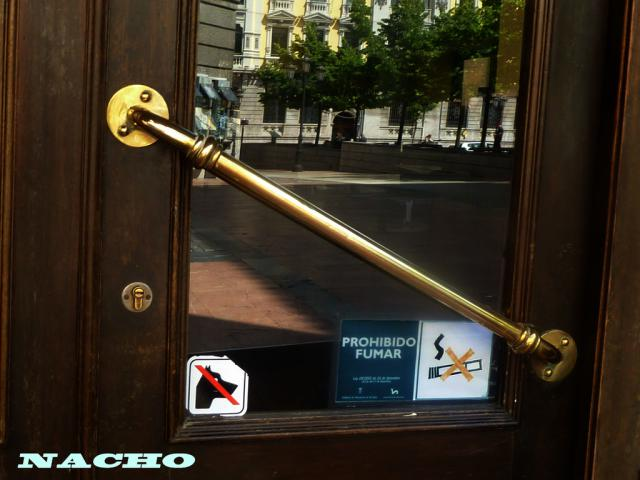Door-handle: (106, 84, 578, 384)
